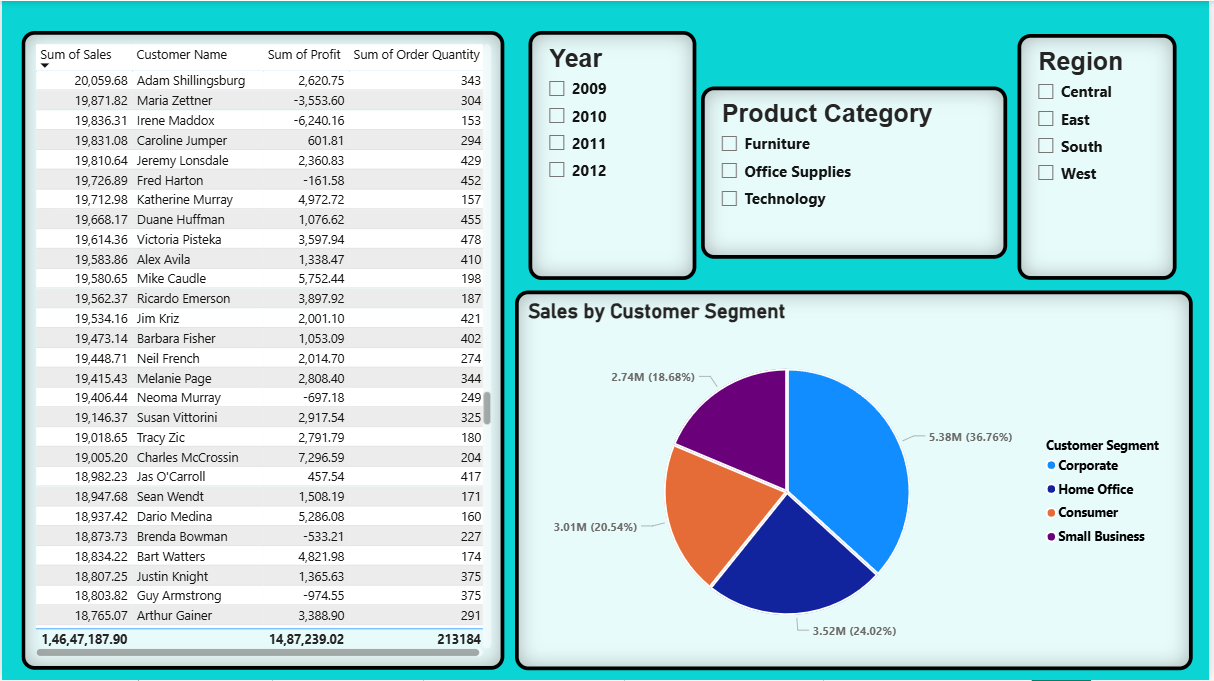

Layout of this report page (visuals, bound fields, positions):
{"tool":"powerbi","page":{"name":"Customer Insights","canvas":[1280,720],"ordinal":4},"visuals":[{"type":"pieChart","title":"Sales by Customer Segment","fields":{"Category":["Sample - Superstore Sales (Excel).Customer Segment"],"Y":["Sum(Sample - Superstore Sales (Excel).Sales)"]},"box":[544,307,719,402.4],"z":0},{"type":"tableEx","title":"Top Customer By Revenue","fields":{"Values":["Sum(Sample - Superstore Sales (Excel).Sales)","Sample - Superstore Sales (Excel).Customer Name","Sum(Sample - Superstore Sales (Excel).Profit)","Sum(Sample - Superstore Sales (Excel).Order Quantity)"]},"box":[20.7,31.8,512.2,677.6],"z":1000},{"type":"slicer","fields":{"Values":["Sample - Superstore Sales (Excel).Order Date.Variation.Date Hierarchy.Year"]},"box":[558.3,31.8,178.1,264],"z":2000},{"type":"slicer","fields":{"Values":["Sample - Superstore Sales (Excel).Region"]},"box":[1076.8,35,168.6,260.9],"z":3000},{"type":"slicer","fields":{"Values":["Sample - Superstore Sales (Excel).Product Category"]},"box":[741.2,90.7,324.5,182.9],"z":4000}]}

Visuals, with their boxes in screenshot pixels (x1, y1, x2, y2), scaled from the page's 1280x720 canvas onto the 1214x681 screenshot:
"Sales by Customer Segment" pieChart: box(516, 290, 1198, 671)
"Top Customer By Revenue" tableEx: box(20, 30, 505, 671)
slicer - Sample - Superstore Sales (Excel).Order Date.Variation.Date Hierarchy.Year: box(530, 30, 698, 280)
slicer - Sample - Superstore Sales (Excel).Region: box(1021, 33, 1181, 280)
slicer - Sample - Superstore Sales (Excel).Product Category: box(703, 86, 1011, 259)
